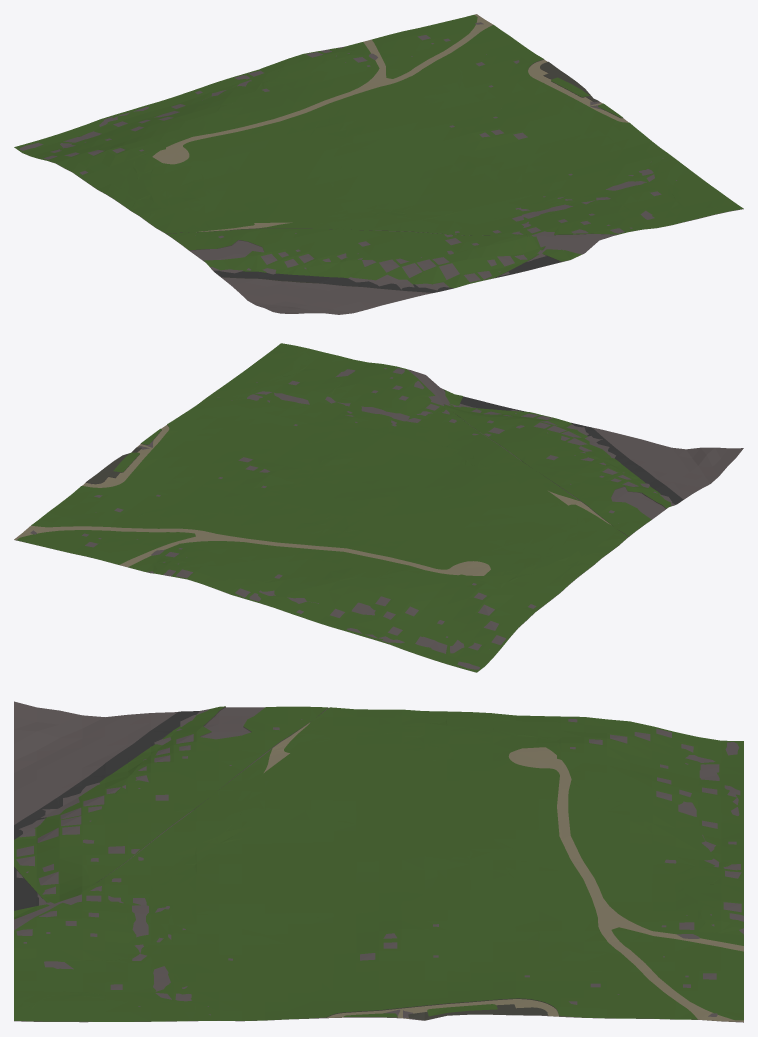
3 renders of one model, top to bottom at view 1: azimuth 30°, elevation 25°; view 2: azimuth 150°, elevation 25°; view 3: azimuth 270°, elevation 25°, orthographic. The views are drawn at different scales.
Visible parts, largest first — view 1: c_m18_p02; view 2: c_m18_p02; view 3: c_m18_p02.
Boxes of the visible parts, x1=… form: c_m18_p02: x1=14, y1=14, x2=743, y2=314; c_m18_p02: x1=14, y1=343, x2=743, y2=672; c_m18_p02: x1=14, y1=701, x2=743, y2=1022.
Size of the model in its own units: 128 by 7.7 by 128.
